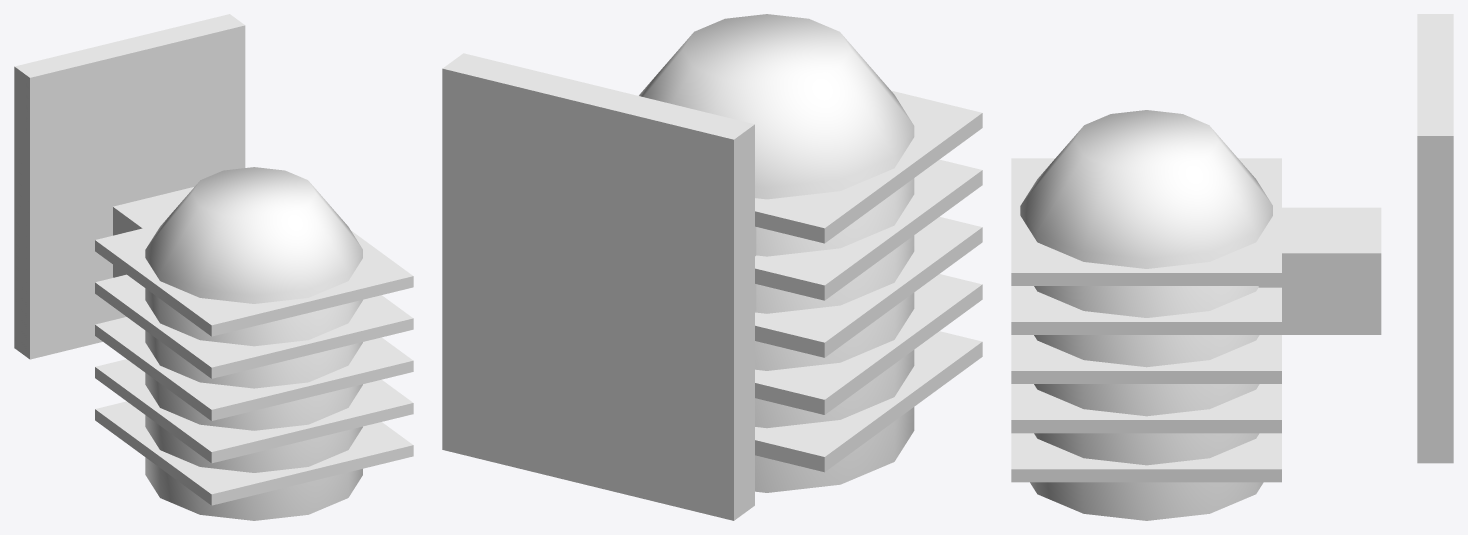
The model's file is export_lamp.glb.
The picture shows the model from 3 angles, left to right: view 1: azimuth 30°, elevation 25°; view 2: azimuth 150°, elevation 25°; view 3: azimuth 270°, elevation 25°; orthographic projection. The views are drawn at different scales.
Parts seen in each view (by area): view 1: ExportLamp; view 2: ExportLamp; view 3: ExportLamp.
Boxes of the visible parts, x1=… form: ExportLamp: x1=14, y1=14, x2=413, y2=520; ExportLamp: x1=442, y1=14, x2=982, y2=520; ExportLamp: x1=1011, y1=14, x2=1453, y2=520.
Size of the model in its own units: 0.16 by 0.24 by 0.245.
Materials: 1 (1 with a texture image).
